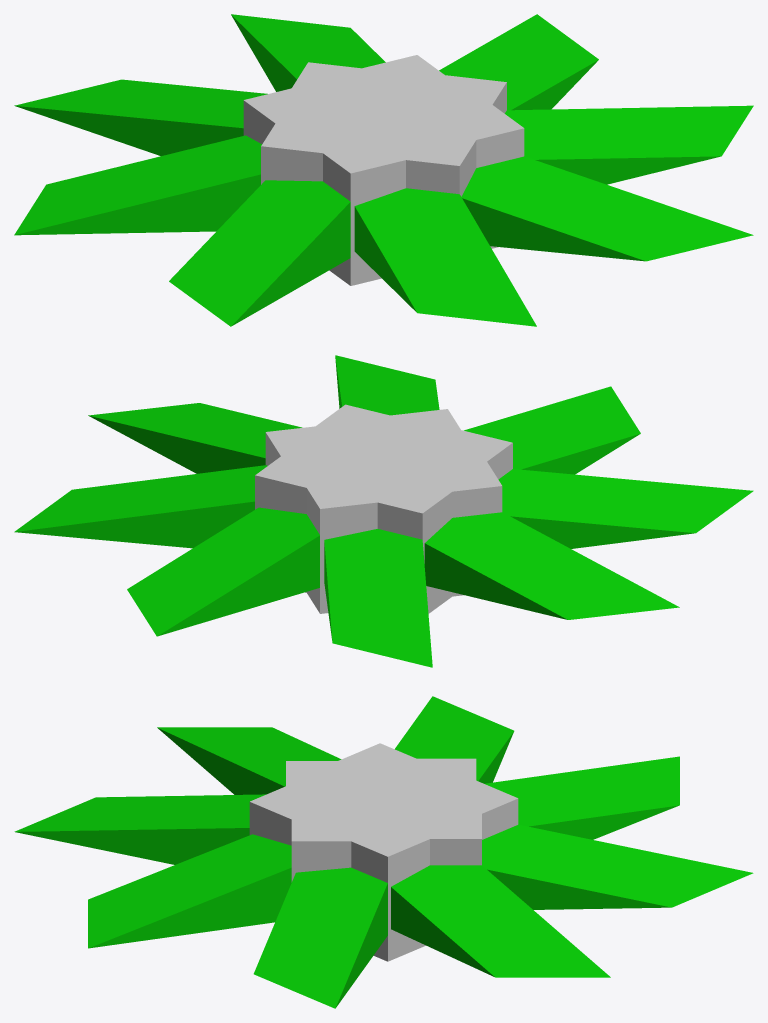
The model's file is melee.fbx.
The picture shows the model from 3 angles, top to bottom: view 1: azimuth 30°, elevation 25°; view 2: azimuth 150°, elevation 25°; view 3: azimuth 270°, elevation 25°; orthographic projection. The views are drawn at different scales.
Parts seen in each view (by area): view 1: Cube; view 2: Cube; view 3: Cube.
Part boxes in pixels (x1=…): Cube: x1=14, y1=14, x2=753, y2=326; Cube: x1=14, y1=355, x2=753, y2=667; Cube: x1=14, y1=696, x2=753, y2=1008.
Bounding box in the file's own units: 1278 × 200 × 1278.
